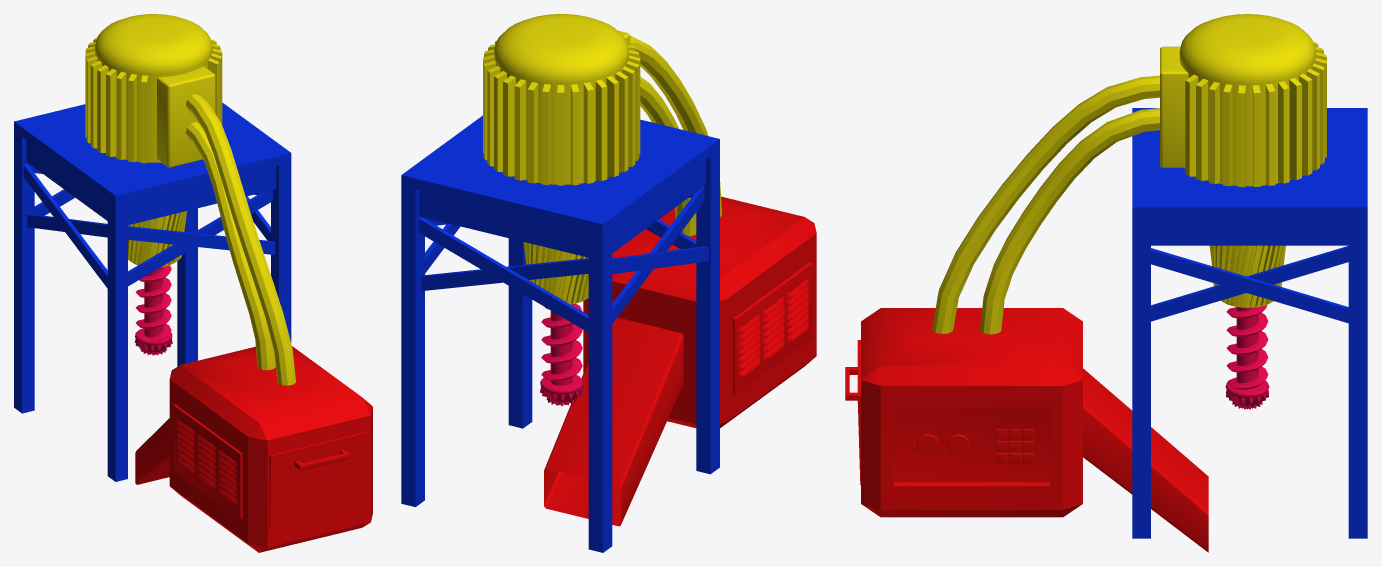
File: Miner.fbx
3 views of the same model, side by side, from view 1: azimuth 30°, elevation 25°; view 2: azimuth 150°, elevation 25°; view 3: azimuth 270°, elevation 25° (orthographic). The views are drawn at different scales.
Visible parts, largest first — view 1: Cube.001; view 2: Cube.001; view 3: Cube.001.
Part boxes in pixels (x1,y1,x2,y2): Cube.001: [14, 14, 372, 552]; Cube.001: [401, 14, 816, 552]; Cube.001: [845, 14, 1367, 552].
Bounding box in the file's own units: 2.12 × 5 × 4.7.
